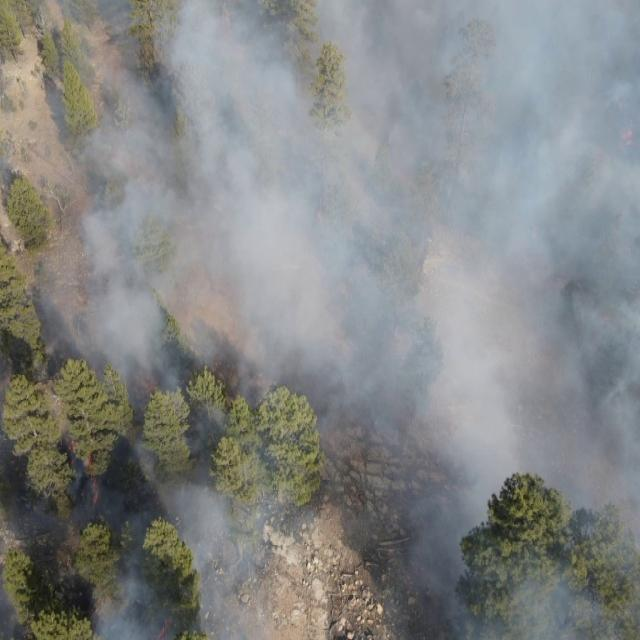fire: (65, 438, 102, 508), (615, 96, 636, 152), (154, 607, 174, 640)
smoke: (0, 0, 640, 640)
